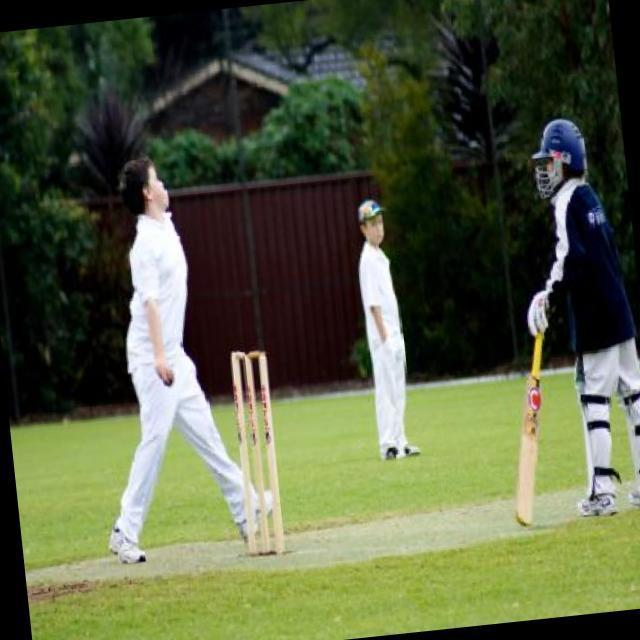-: (156, 368, 179, 397)
